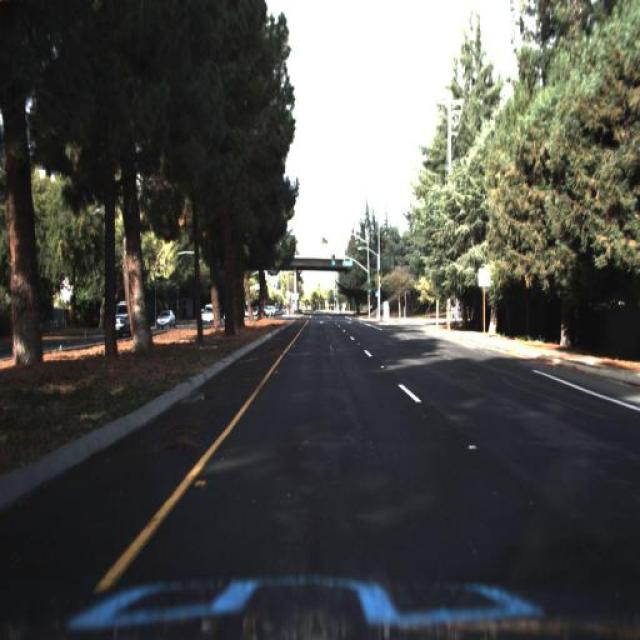car: (106, 296, 142, 346), (154, 308, 180, 337)
